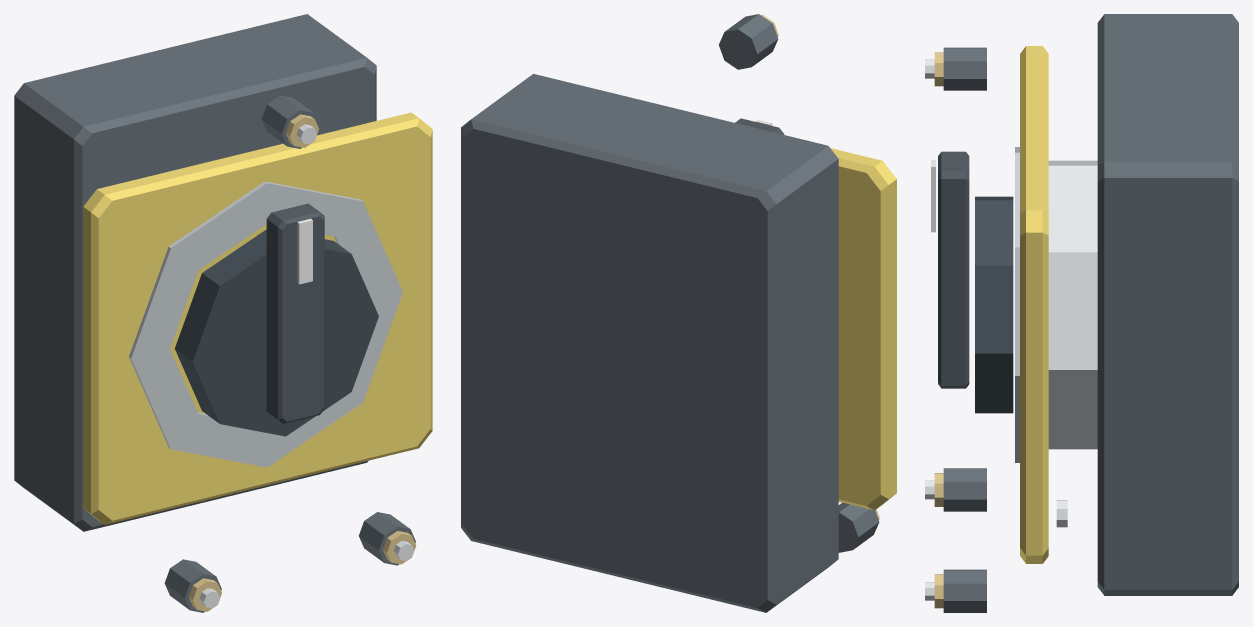
Rendered from rotarySwitch.glb.
3 renders of one model, left to right at view 1: azimuth 30°, elevation 25°; view 2: azimuth 150°, elevation 25°; view 3: azimuth 270°, elevation 25°, orthographic. The views are drawn at different scales.
Parts seen in each view (by area): view 1: rotarySwitch-board; view 2: rotarySwitch-board; view 3: rotarySwitch-board.
Part boxes in pixels (left/top/right/bottom): rotarySwitch-board: left=14, top=14, right=432, bottom=612; rotarySwitch-board: left=461, top=14, right=896, bottom=612; rotarySwitch-board: left=925, top=14, right=1238, bottom=612.
Bounding box in the file's own units: 1.76 × 2.36 × 1.31.
